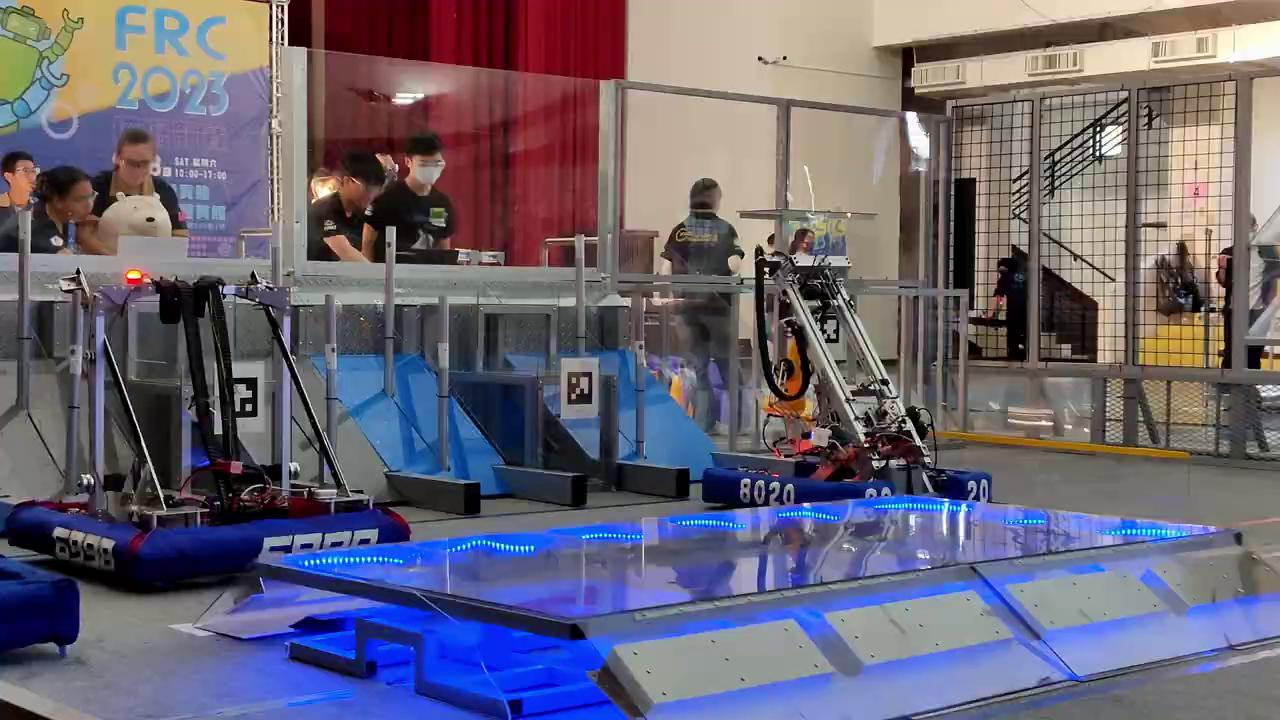robot: (7, 270, 412, 594), (701, 246, 993, 510), (0, 551, 81, 654)
